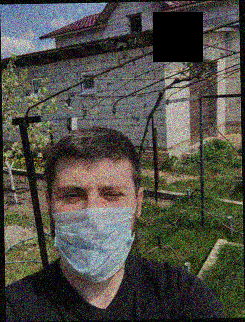with_mask: (49, 170, 138, 284)
